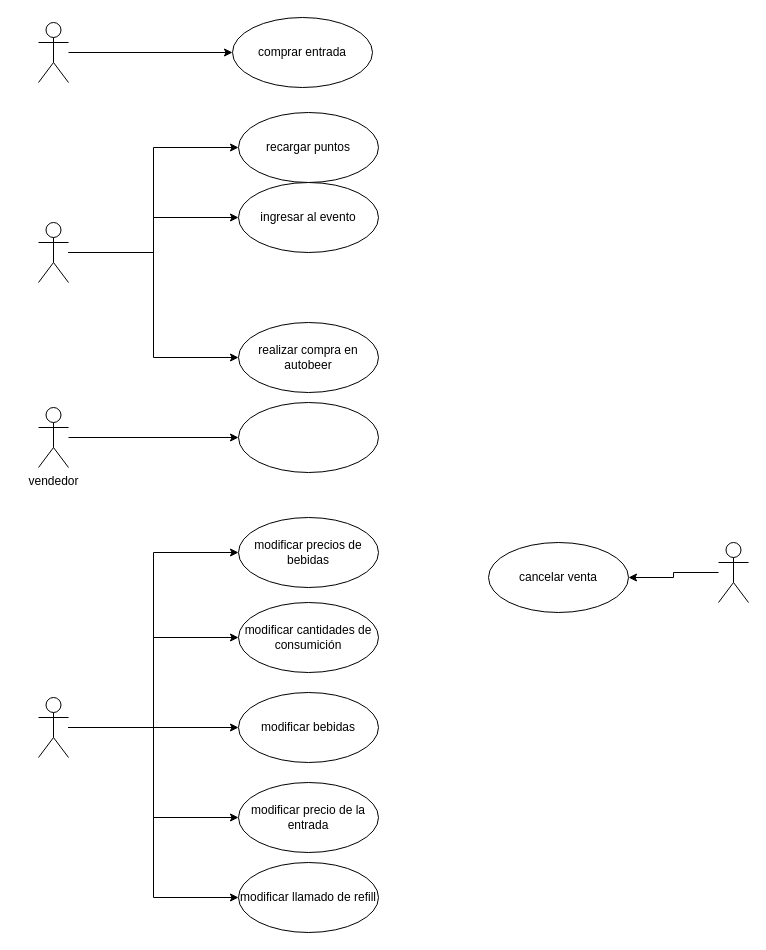
This 766x950 diagram has some shape labels left out. Here are the shapes that lost their labels. From the top down, the centre of each, then its label:
At point 53,52: "invitado".
At point 53,252: "asistente".
At point 308,437: "realizar venta".
At point 733,572: "timer".
At point 53,727: "administrador".
